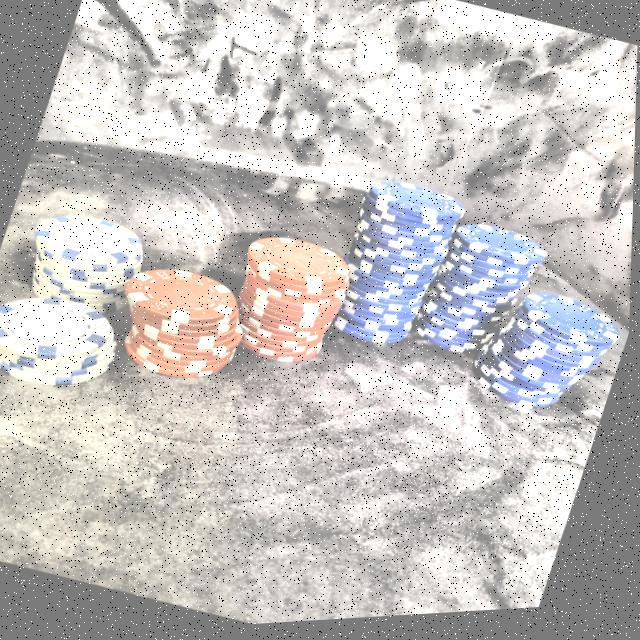Chip: (314, 164, 476, 376), (102, 235, 269, 409), (468, 260, 631, 438), (405, 208, 561, 392), (211, 207, 369, 388), (16, 188, 170, 343), (0, 264, 136, 418)
